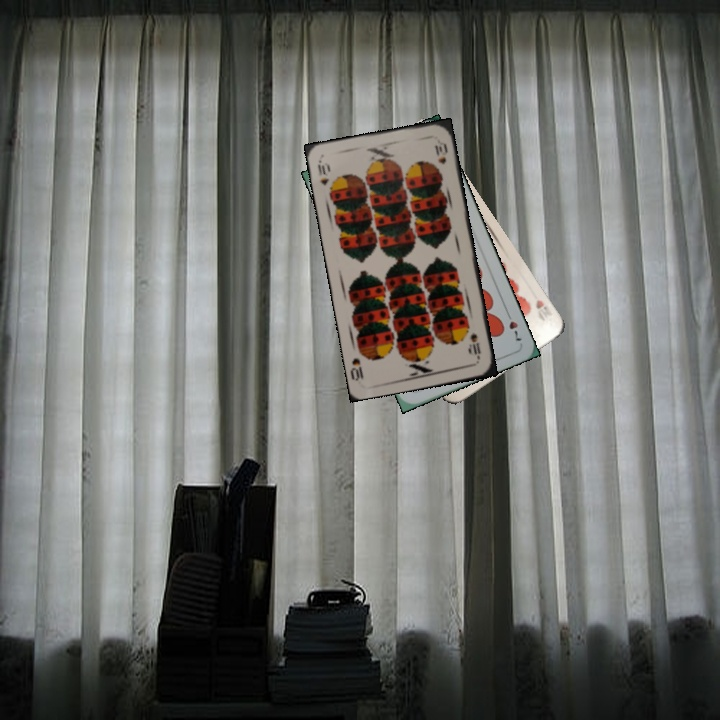H10: (532, 295, 551, 324)
H7: (502, 306, 524, 344)
S10: (465, 328, 483, 362), (314, 157, 332, 188)
